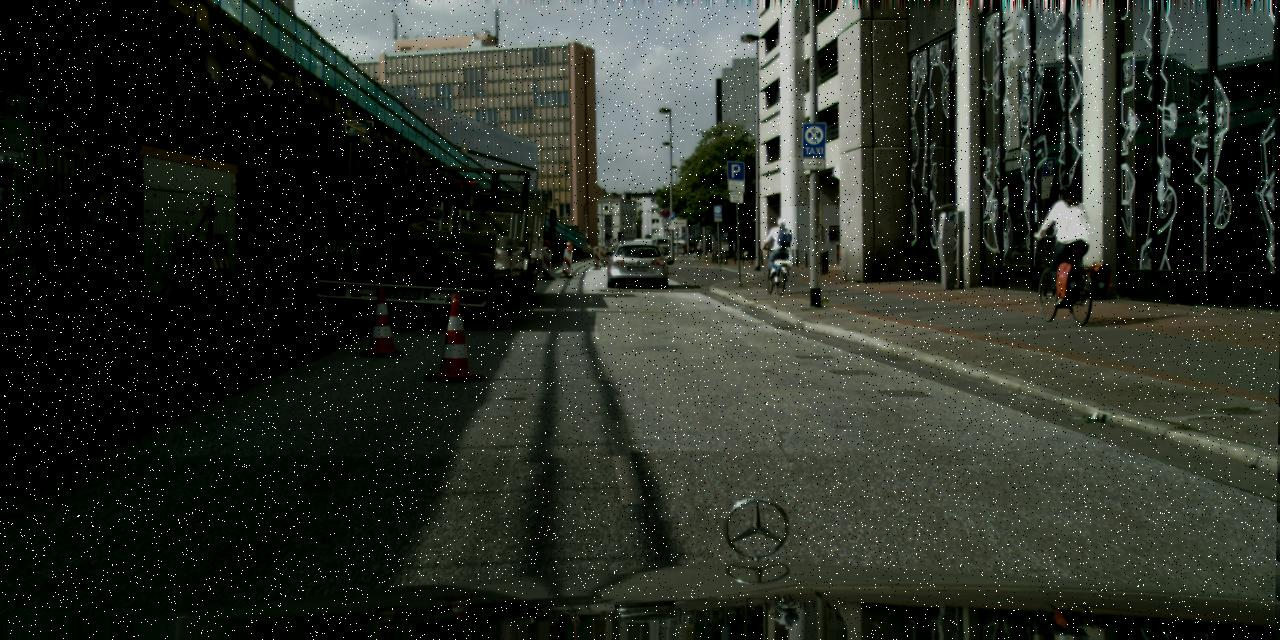ped: (1045, 184, 1093, 300), (292, 199, 336, 307), (766, 217, 791, 279), (748, 236, 758, 256), (695, 240, 702, 256)
